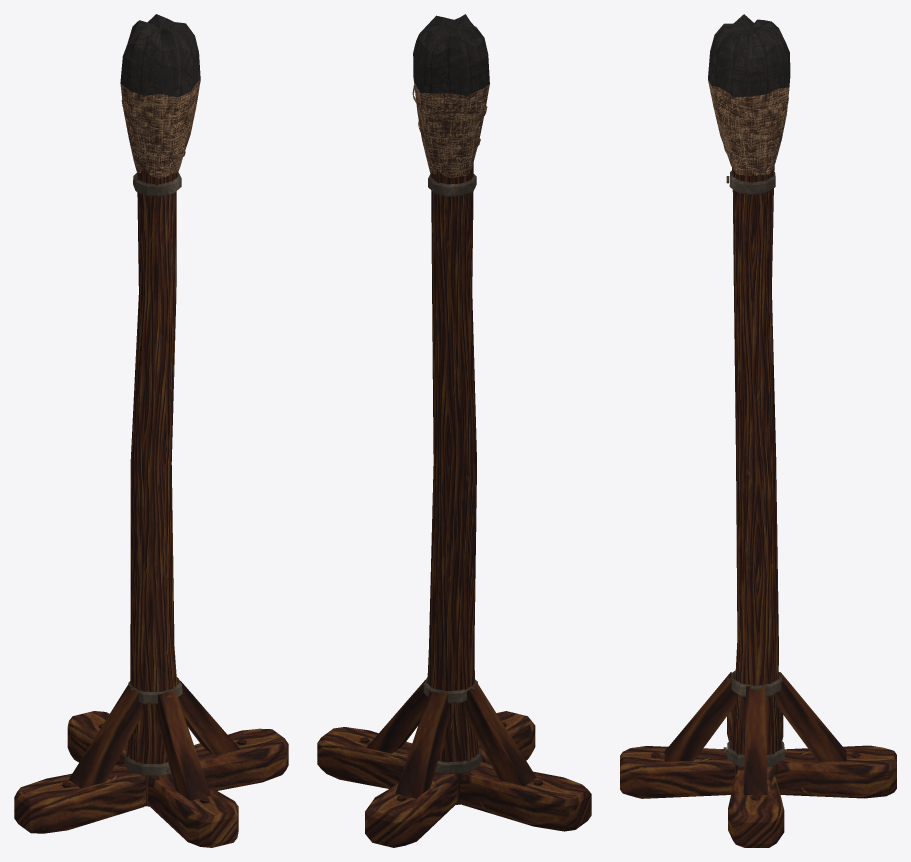
File: Tocha-de-Pe.glb
The picture shows the model from 3 angles, left to right: view 1: azimuth 30°, elevation 25°; view 2: azimuth 150°, elevation 25°; view 3: azimuth 270°, elevation 25°; orthographic projection.
Visible parts, largest first — view 1: Haste de madeira, Pés cruzados, Escoras de madeira, Topo carbonizado, Pano amarrado, Abraçadeiras; view 2: Haste de madeira, Pés cruzados, Escoras de madeira, Topo carbonizado, Pano amarrado, Abraçadeiras, Dobra do pano; view 3: Haste de madeira, Pés cruzados, Escoras de madeira, Topo carbonizado, Pano amarrado, Abraçadeiras.
Boxes of the visible parts, x1,y1,x2,y2 form: Haste de madeira: (125,167,178,806); Pés cruzados: (14,711,288,847); Escoras de madeira: (69,678,239,800); Topo carbonizado: (120,14,200,97); Pano amarrado: (120,80,200,178); Abraçadeiras: (124,172,182,776); Haste de madeira: (426,163,478,804); Pés cruzados: (317,711,591,847); Escoras de madeira: (366,679,536,798); Topo carbonizado: (413,14,489,95); Pano amarrado: (413,79,489,178); Abraçadeiras: (423,173,481,774); Dobra do pano: (412,85,487,149); Haste de madeira: (730,166,781,777); Pés cruzados: (620,707,896,847); Escoras de madeira: (664,672,846,794); Topo carbonizado: (708,14,790,97); Pano amarrado: (708,80,789,175); Abraçadeiras: (727,170,784,767).
Bounding box in the file's own units: 0.641 × 1.83 × 0.598.
Materials: 4 (4 with a texture image).
